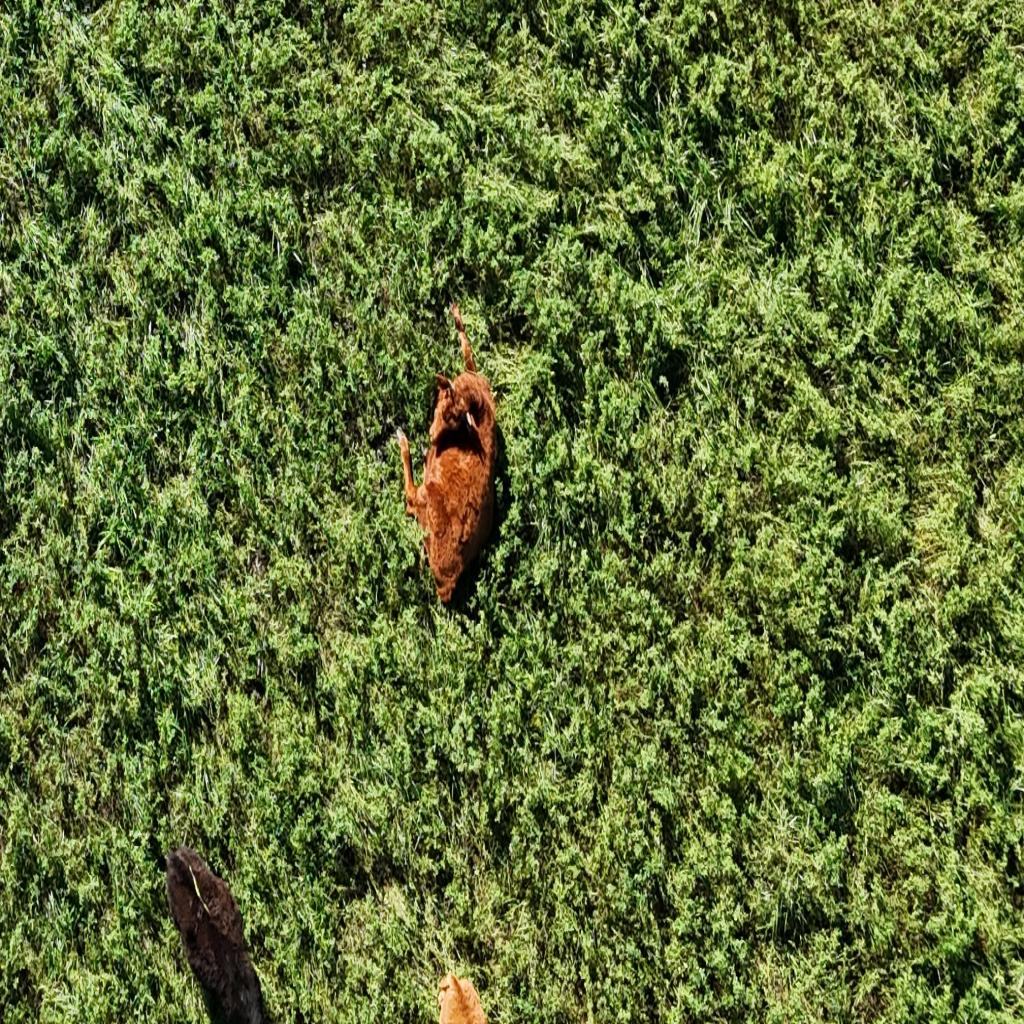cow: (390, 294, 504, 614), (162, 844, 268, 1023)
